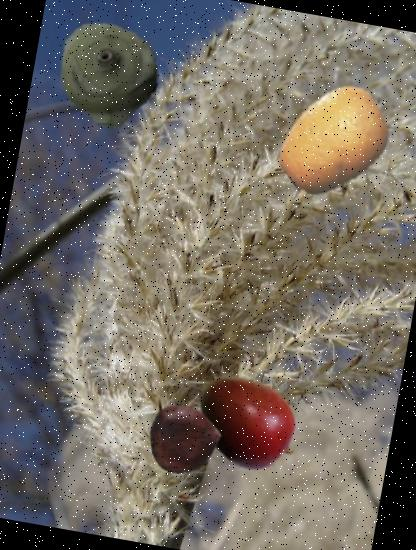Chestnut: (145, 397, 227, 479)
Kohlrabi: (44, 15, 168, 139)
Kumquats: (266, 73, 402, 210)
Mango: (182, 355, 312, 486)
